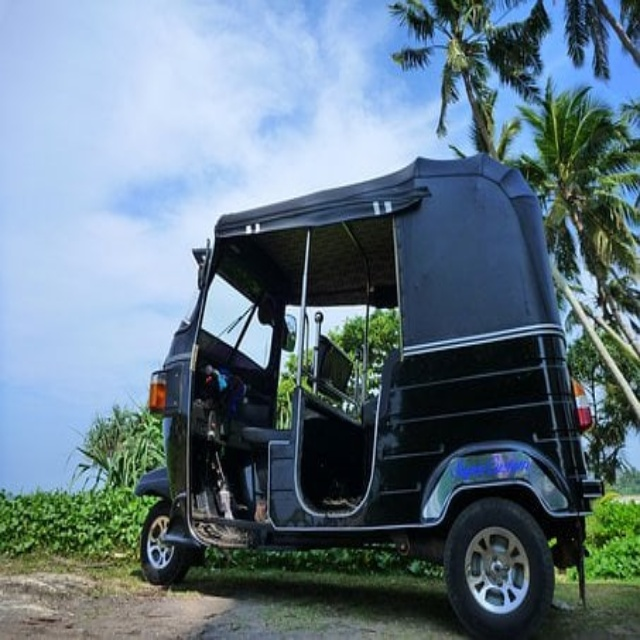Motorcycle: (133, 152, 603, 636)
